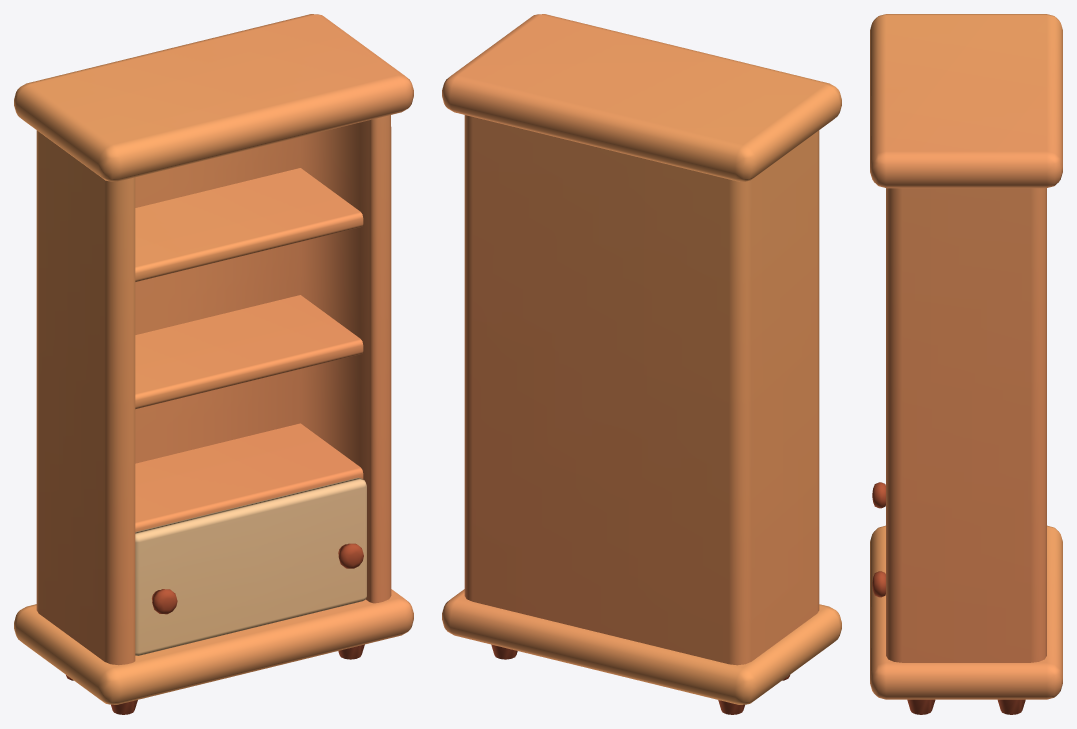
File: closet-01.glb
3 renders of one model, left to right at view 1: azimuth 30°, elevation 25°; view 2: azimuth 150°, elevation 25°; view 3: azimuth 270°, elevation 25°, orthographic. The views are drawn at different scales.
Parts seen in each view (by area): view 1: Closet_01, Closet_01_Door; view 2: Closet_01; view 3: Closet_01, Closet_01_Door.
Boxes of the visible parts, left/top/right/bottom form: Closet_01: left=14, top=14, right=413, bottom=714; Closet_01_Door: left=135, top=477, right=366, bottom=655; Closet_01: left=442, top=14, right=841, bottom=714; Closet_01: left=870, top=14, right=1062, bottom=714; Closet_01_Door: left=872, top=482, right=885, bottom=597.
Size of the model in its own units: 0.88 by 1.58 by 0.48.
Materials: 1 (1 with a texture image).
